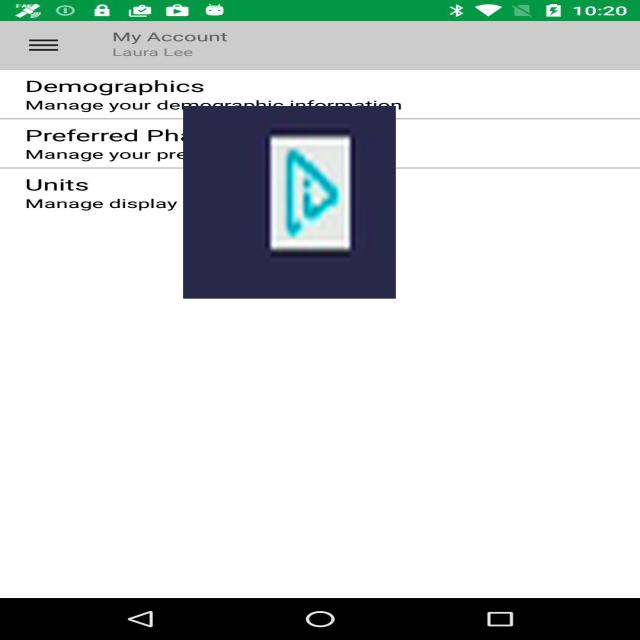sneaking: (183, 106, 396, 299)
